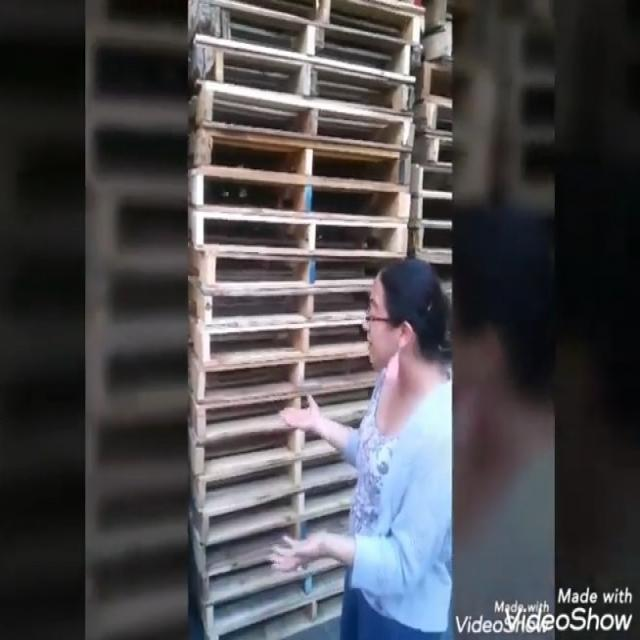Palette: (191, 0, 415, 640), (414, 0, 451, 293)
